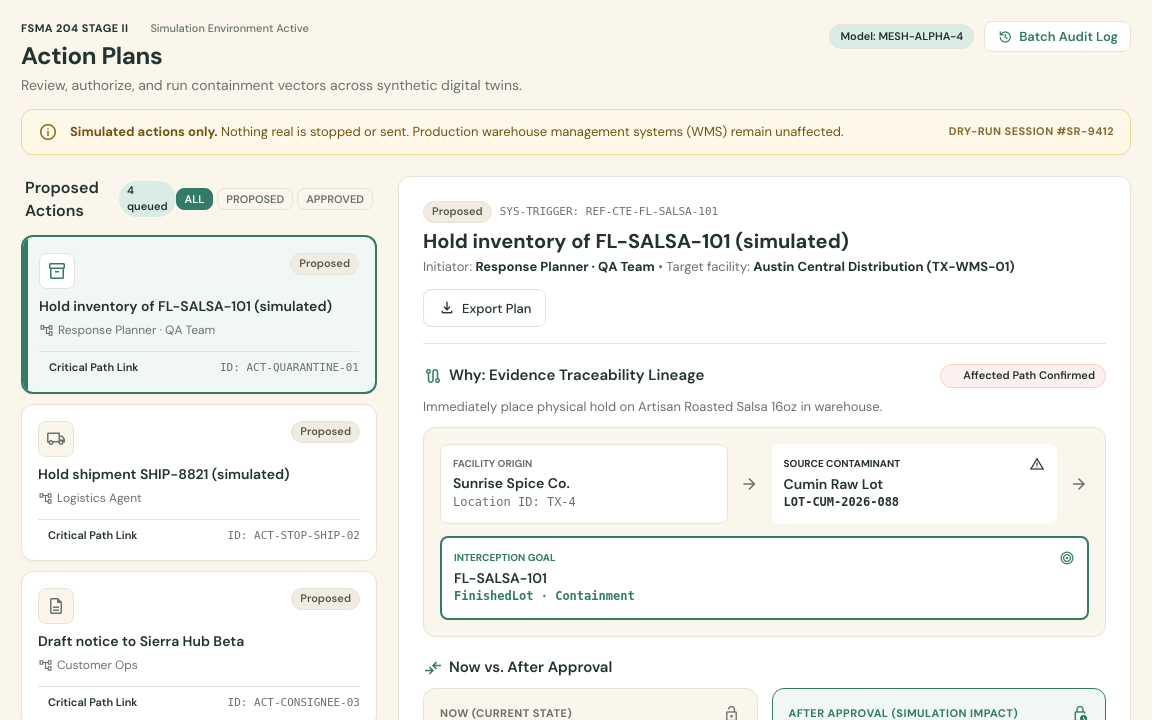
Scenario: ActionPlansWorkspace Component › opens and displays Export Plan dossier modal
The width and height of the screenshot is (1152, 720).
Click the button "Export Plan". click: (485, 308)
box: [423, 289, 546, 327]
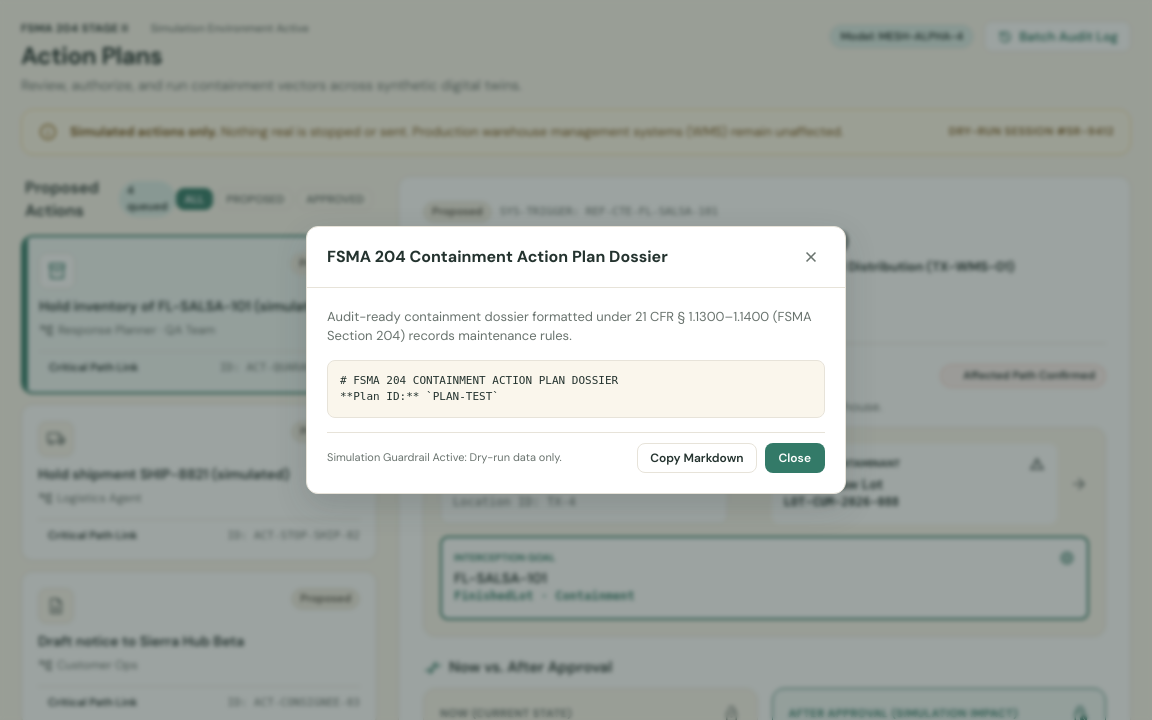
Result: the heading "FSMA 204 Containment Action Plan Dossier" is shown at [327, 247, 668, 267]
